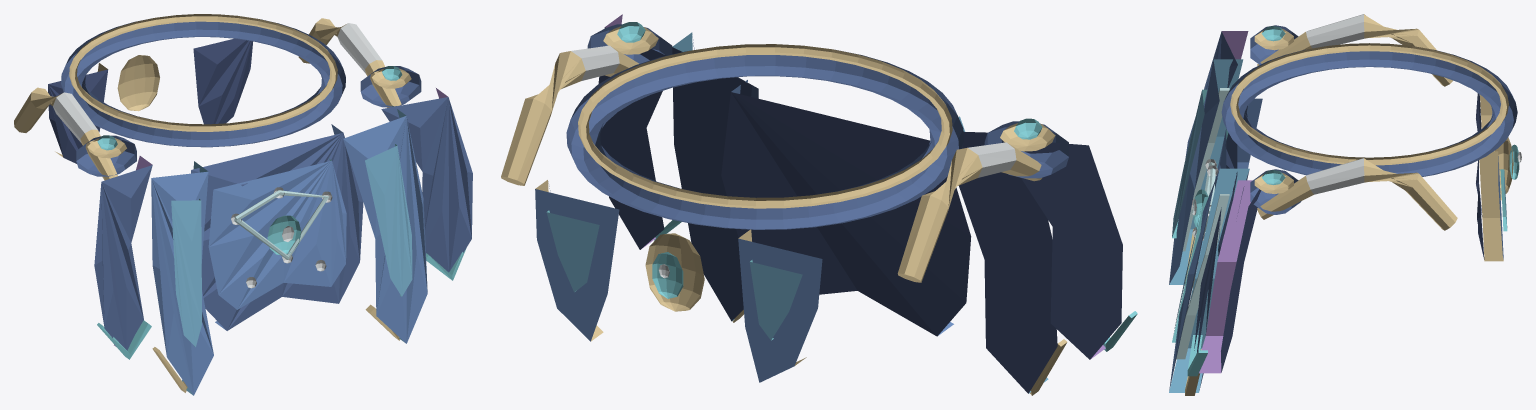
Rendered from celestial_mantle.glb.
The picture shows the model from 3 angles, left to right: view 1: azimuth 30°, elevation 25°; view 2: azimuth 150°, elevation 25°; view 3: azimuth 270°, elevation 25°; orthographic projection. The views are drawn at different scales.
Visible parts, largest first — view 1: sway; view 2: sway; view 3: sway.
Boxes of the visible parts, x1,y1,x2,y2 form: sway: (14,14,472,395); sway: (501,14,1137,395); sway: (1169,14,1521,395).
Bounding box in the file's own units: 16.9 × 10.51 × 13.16.
